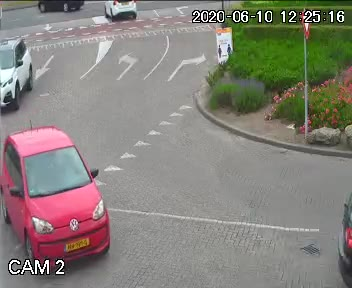car: (12, 118, 100, 274), (0, 33, 34, 124), (32, 0, 87, 20), (100, 0, 134, 23)
